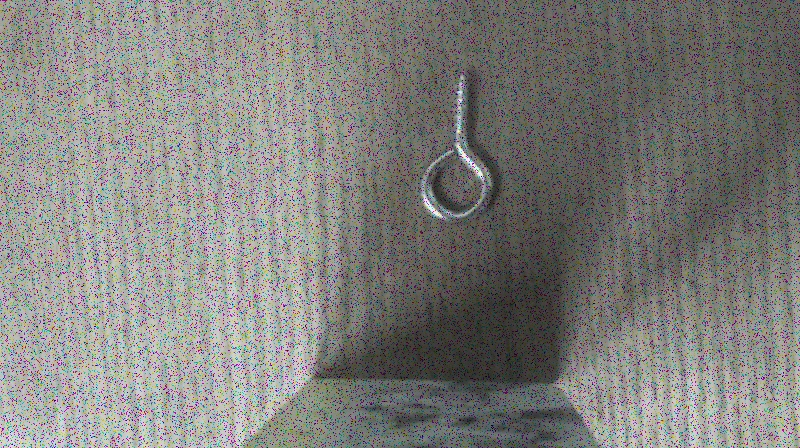O001: (416, 69, 497, 225)
